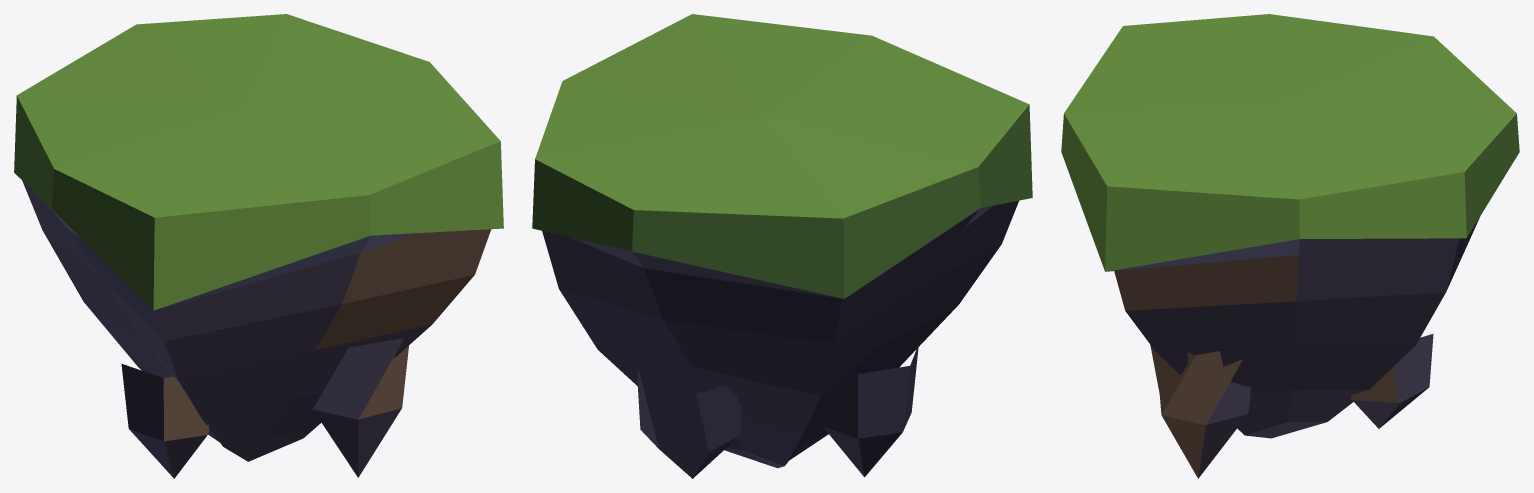
File: far_islet.glb
3 views of the same model, side by side, from view 1: azimuth 30°, elevation 25°; view 2: azimuth 150°, elevation 25°; view 3: azimuth 270°, elevation 25° (orthographic). The views are drawn at different scales.
Parts seen in each view (by area): view 1: Island; view 2: Island; view 3: Island.
Part boxes in pixels (<box>): Island: <box>14,14,503,478</box>; Island: <box>532,14,1032,478</box>; Island: <box>1061,14,1519,478</box>.
Size of the model in its own units: 9.42 by 8.05 by 9.71.
